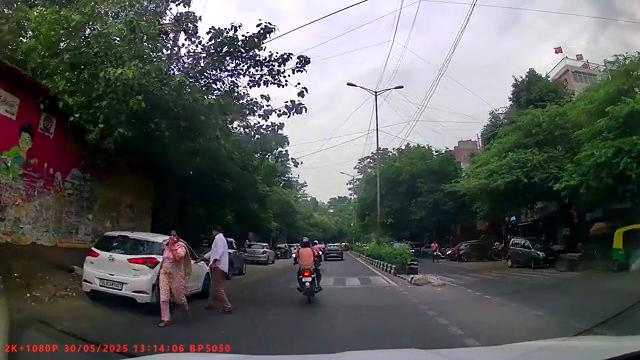motorcycle_with_helmet: (295, 235, 324, 302)
